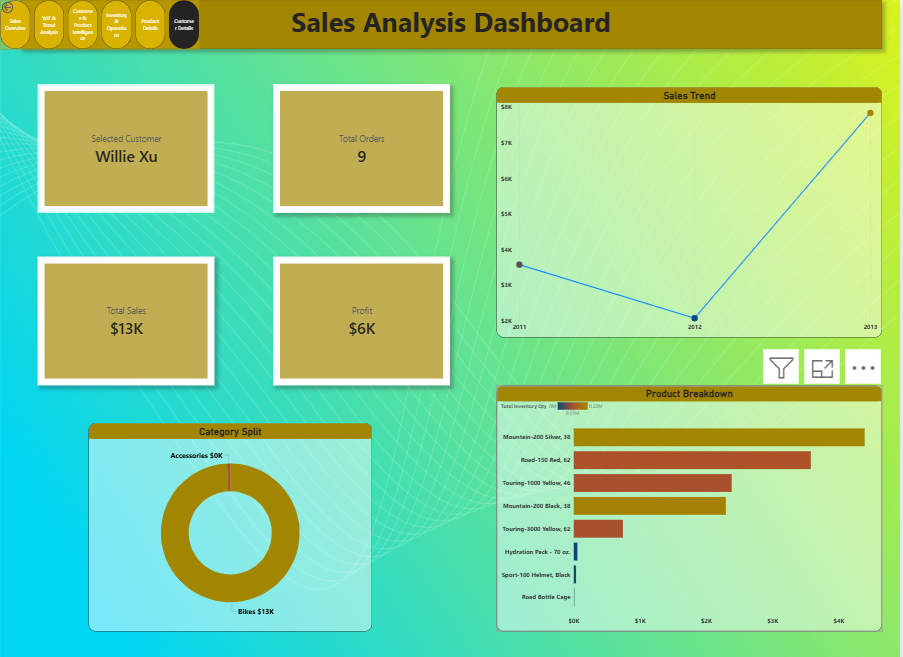

The page's visual inventory and layout, read from the dashboard file:
{"tool":"powerbi","page":{"name":"Customer Details","canvas":[2400,1800],"ordinal":5},"visuals":[{"type":"textbox","box":[55,0,2295,130],"z":0},{"type":"cardVisual","fields":{"Data":["FactInternetSales.Total Orders"]},"box":[728,224,472,344],"z":1000},{"type":"cardVisual","fields":{"Data":["FactInternetSales.Profit"]},"box":[728,684,472,344],"z":2000},{"type":"cardVisual","fields":{"Data":["FactInternetSales.Total Sales"]},"box":[100,684,472,344],"z":3000},{"type":"barChart","title":"Product Breakdown","fields":{"Category":["DimProduct.EnglishProductName"],"Y":["FactInternetSales.Total Sales"]},"box":[1324,1028,1028,656],"z":4000},{"type":"pageNavigator","box":[0,0,532,132],"z":5000},{"type":"cardVisual","fields":{"Data":["DimCustomer.Selected Customer"]},"box":[100,224,472,344],"z":6000},{"type":"lineChart","title":"Sales Trend ","fields":{"Category":["DimDate.Date.Variation.Date Hierarchy.Year","DimDate.Date.Variation.Date Hierarchy.Quarter","DimDate.Date.Variation.Date Hierarchy.Month","DimDate.Date.Variation.Date Hierarchy.Day"],"Y":["FactInternetSales.Total Sales"]},"box":[1324,232,1028,668],"z":7000},{"type":"actionButton","box":[0,0,100,40],"z":8000},{"type":"donutChart","title":"Category Split","fields":{"Category":["DimProductCategory.EnglishProductCategoryName"],"Y":["FactInternetSales.Total Sales"]},"box":[236,1128,756,556],"z":9000}]}

Visuals, with their boxes on the page's 2400x1800 design canvas (x1, y1, x2, y2). These are canvas units, not pixel positions in the 903x657 screenshot, which may show the page scaled, cropped or inside an application window:
textbox: rect(55, 0, 2350, 130)
cardVisual - FactInternetSales.Total Orders: rect(728, 224, 1200, 568)
cardVisual - FactInternetSales.Profit: rect(728, 684, 1200, 1028)
cardVisual - FactInternetSales.Total Sales: rect(100, 684, 572, 1028)
"Product Breakdown" barChart: rect(1324, 1028, 2352, 1684)
pageNavigator: rect(0, 0, 532, 132)
cardVisual - DimCustomer.Selected Customer: rect(100, 224, 572, 568)
"Sales Trend " lineChart: rect(1324, 232, 2352, 900)
actionButton: rect(0, 0, 100, 40)
"Category Split" donutChart: rect(236, 1128, 992, 1684)
